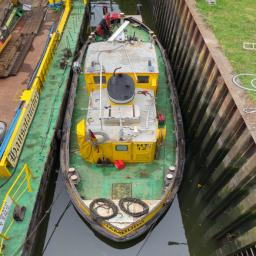tugboat: (57, 3, 188, 252)
